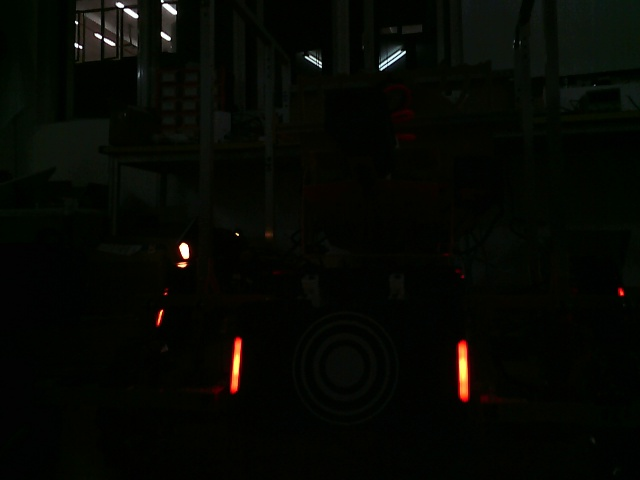lamp: (452, 338, 472, 403), (226, 331, 244, 397)
